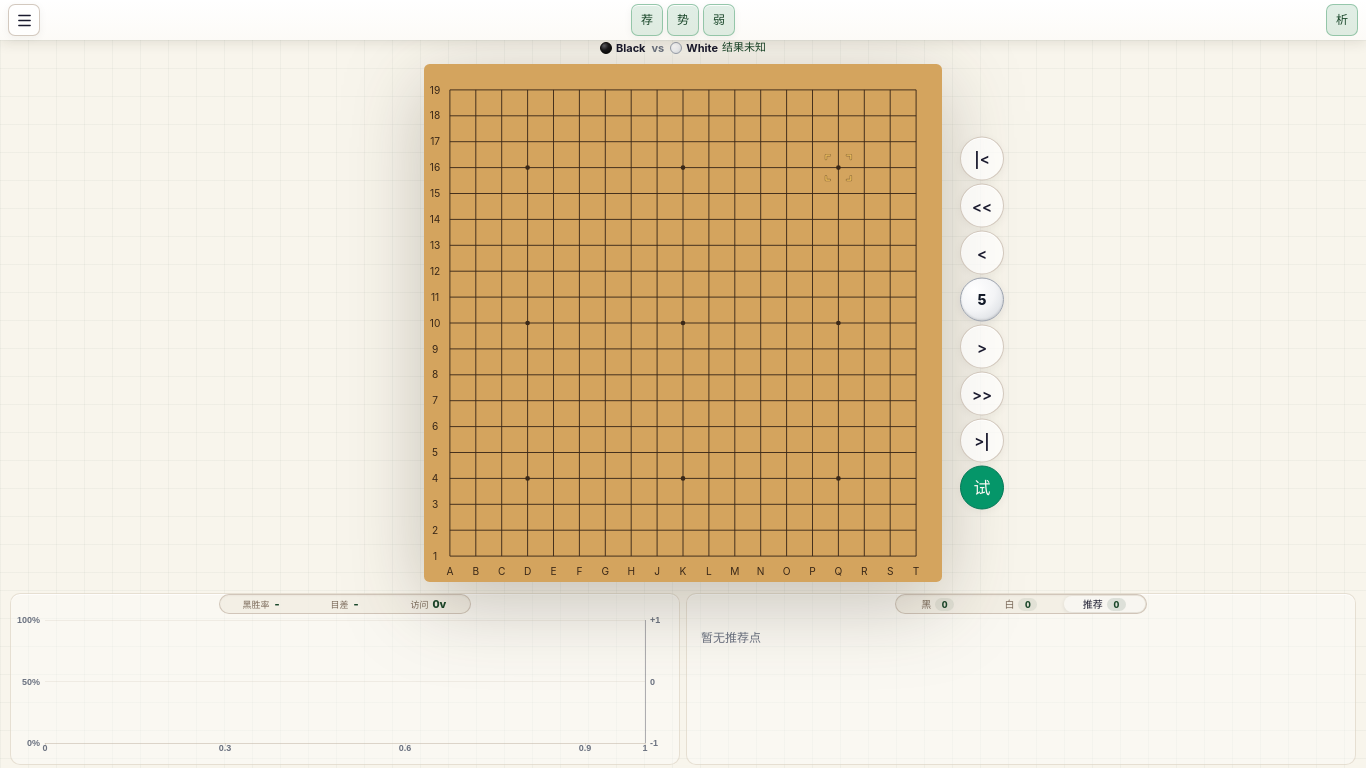
App variation navigation › shows a yuanluobo import in the local game list without reconnecting
Expected: the text named "Move 5, white to play" is shown, [960,278,1004,322]
Click the button named "打开功能菜单" at (24, 20), box [8,4,40,36]
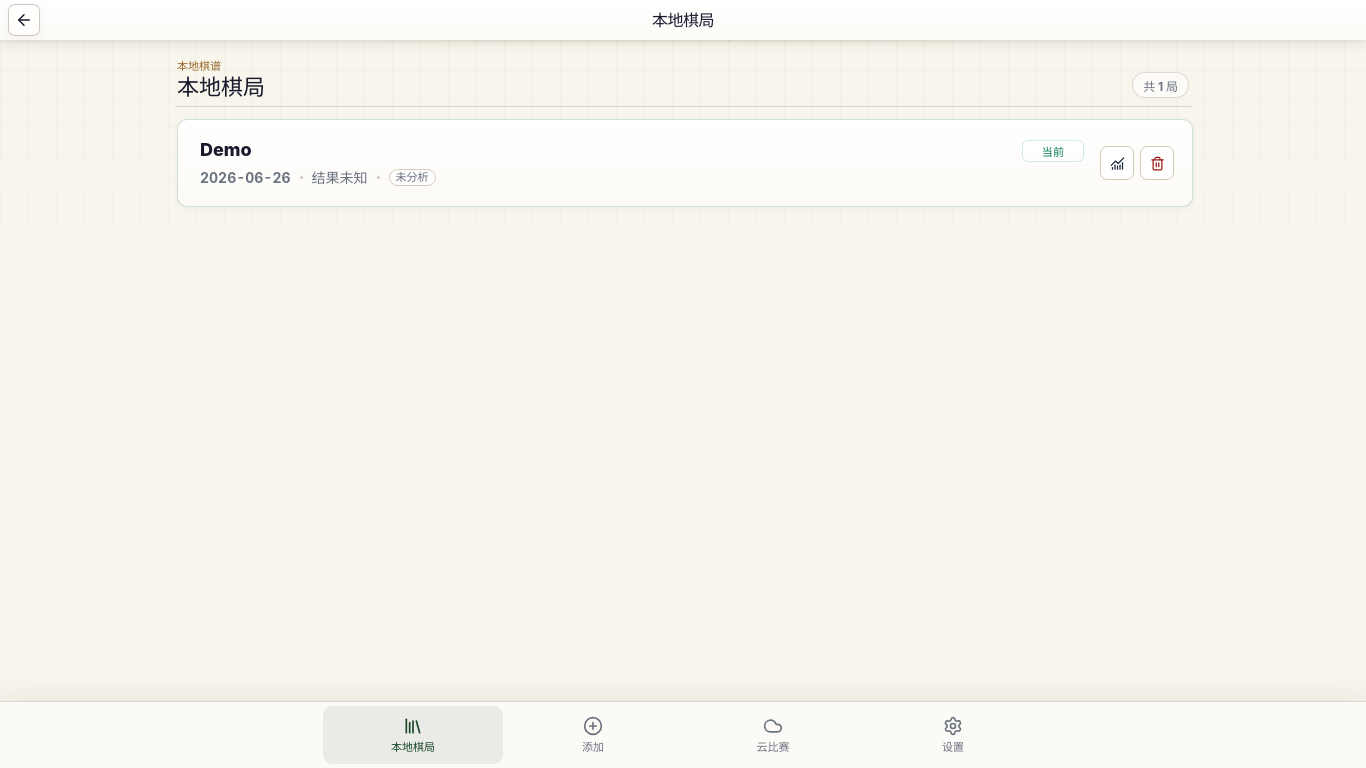
Click the button "添加" at (593, 735), box [503,706,683,764]
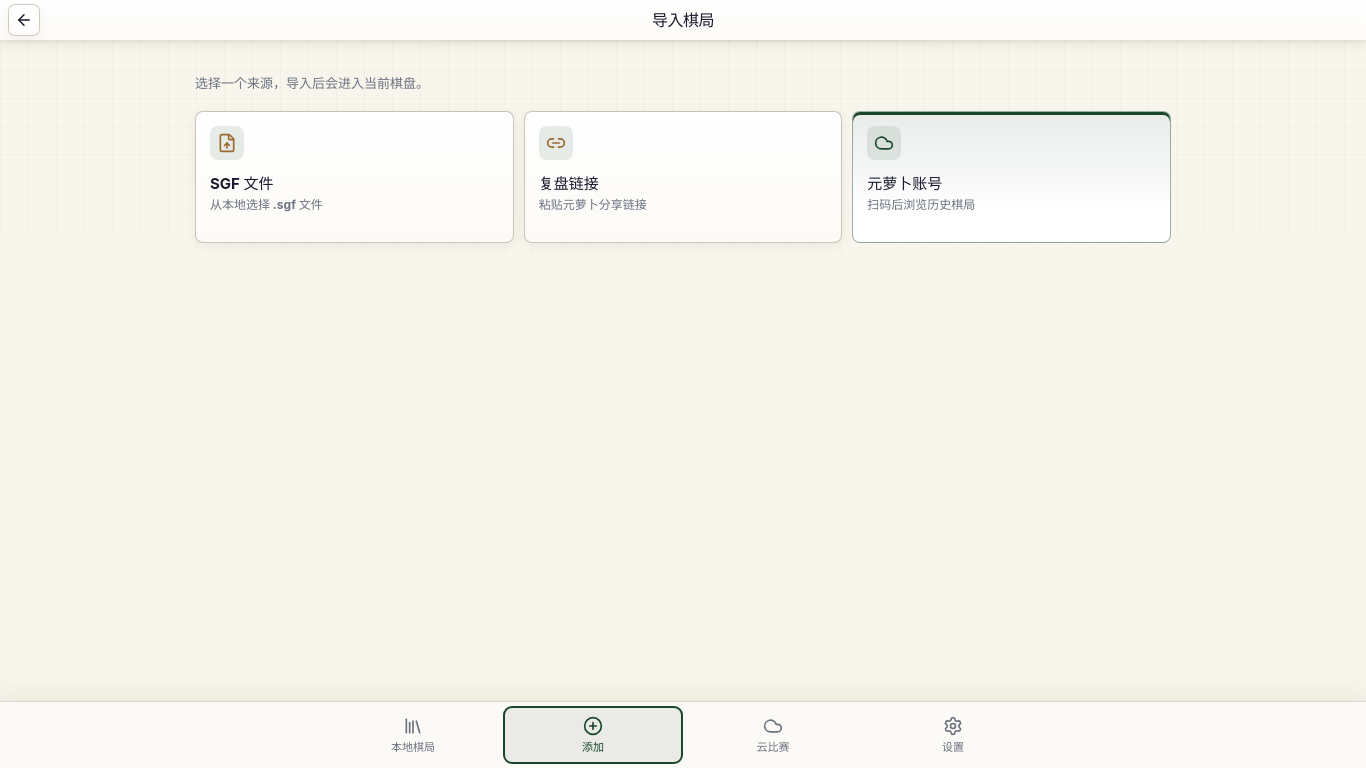
Click the button "元萝卜账号 扫码后浏览历史棋局" at (884, 143), box [852,111,1171,243]
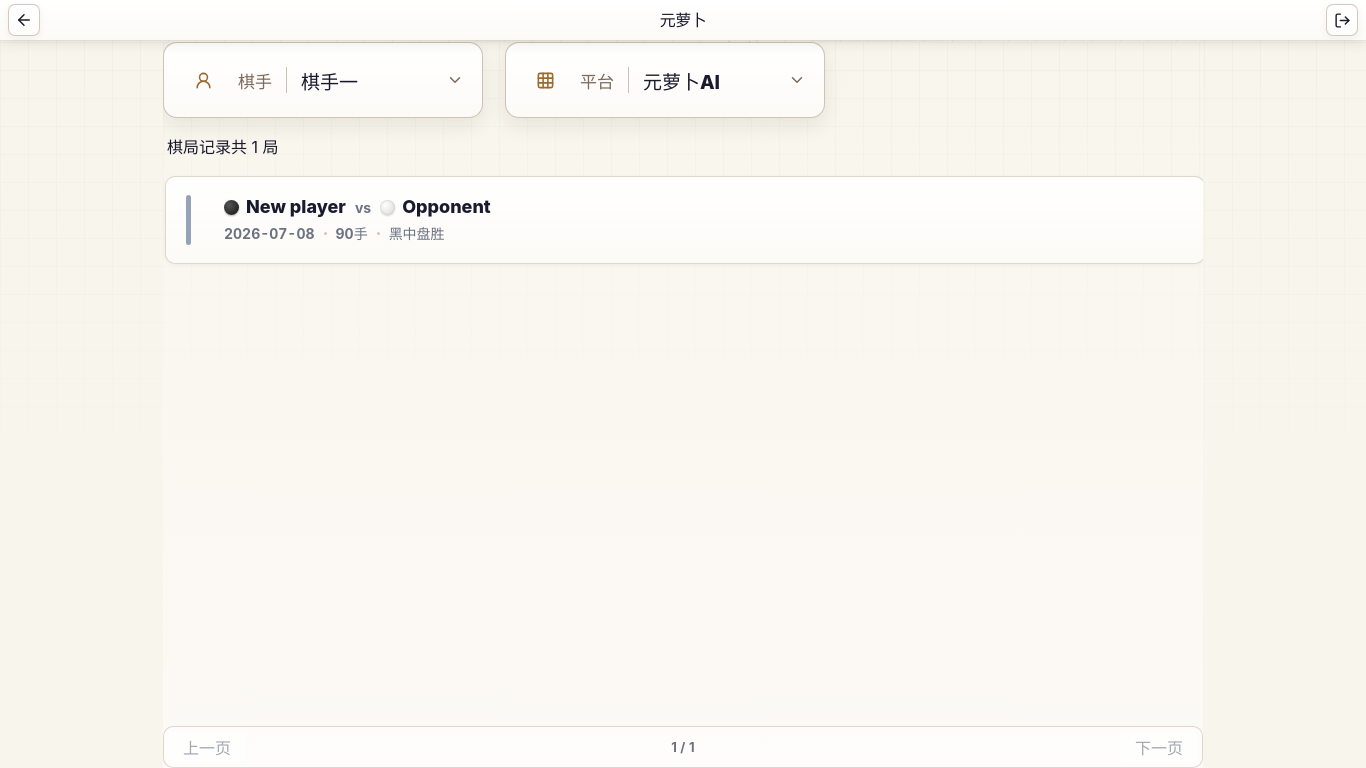
Click the button "New player vs Opponent 2026-07-08 90手 黑中盘胜" at (296, 207), box [165,176,1205,264]
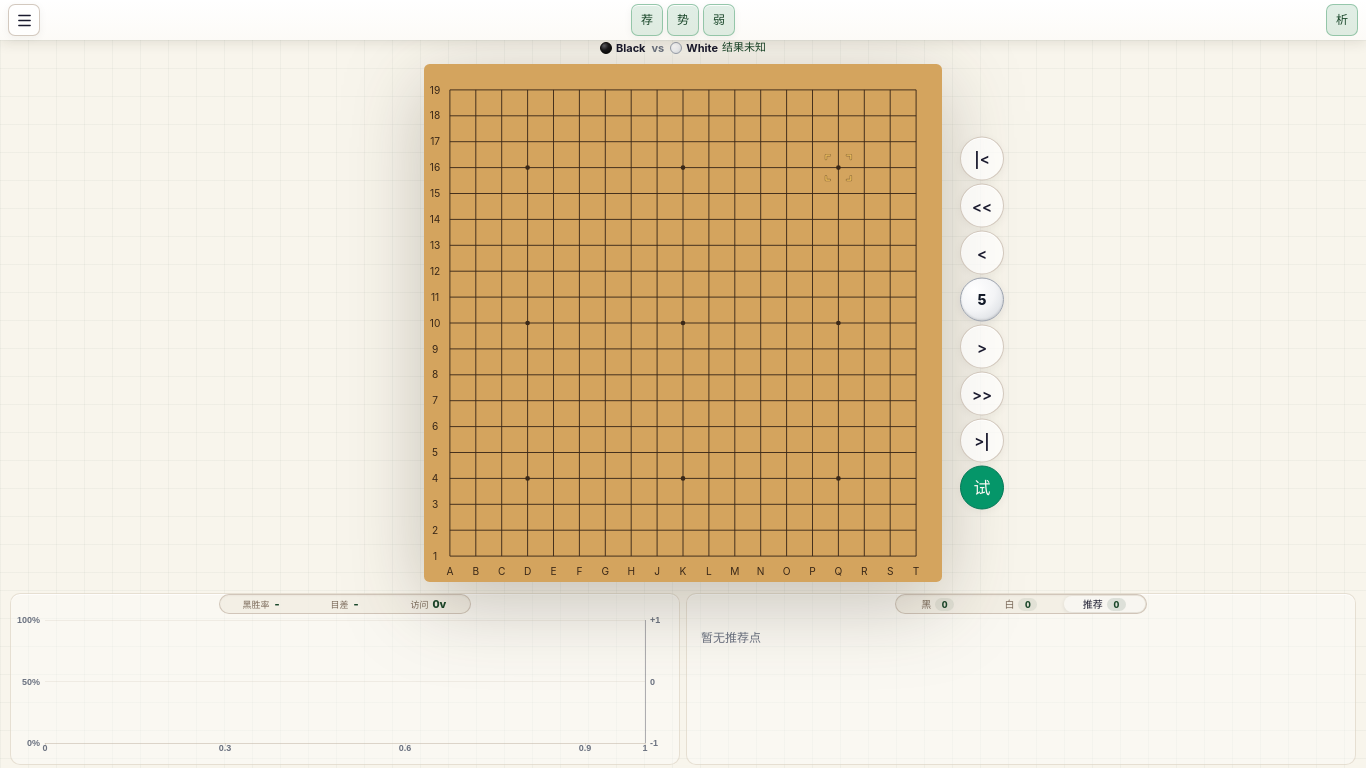
Result: the element "元萝卜棋局内容" is gone
Click the button named "打开功能菜单" at (24, 20), box [8,4,40,36]
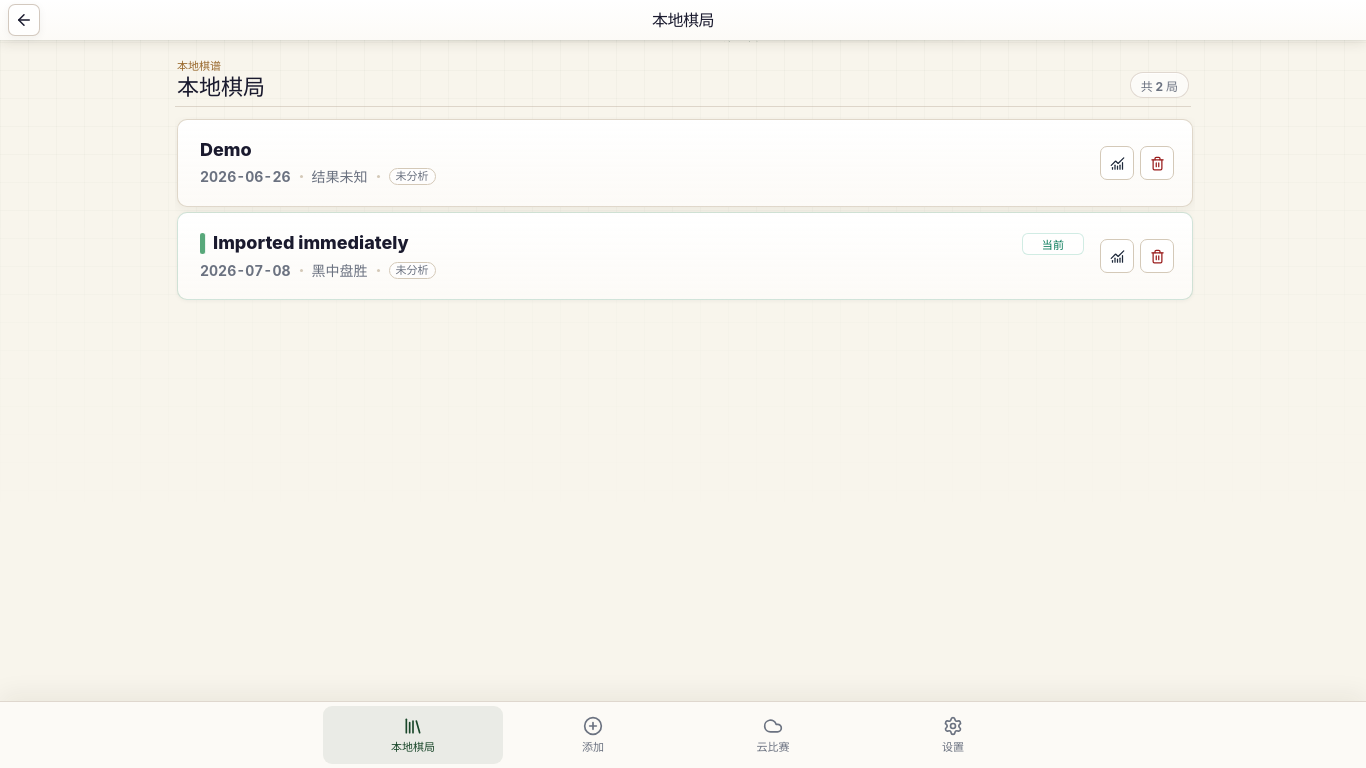
Result: the button "Imported immediately 当前 2026-07-08 黑中盘胜 未分析" is shown at [200,233,1084,279]
